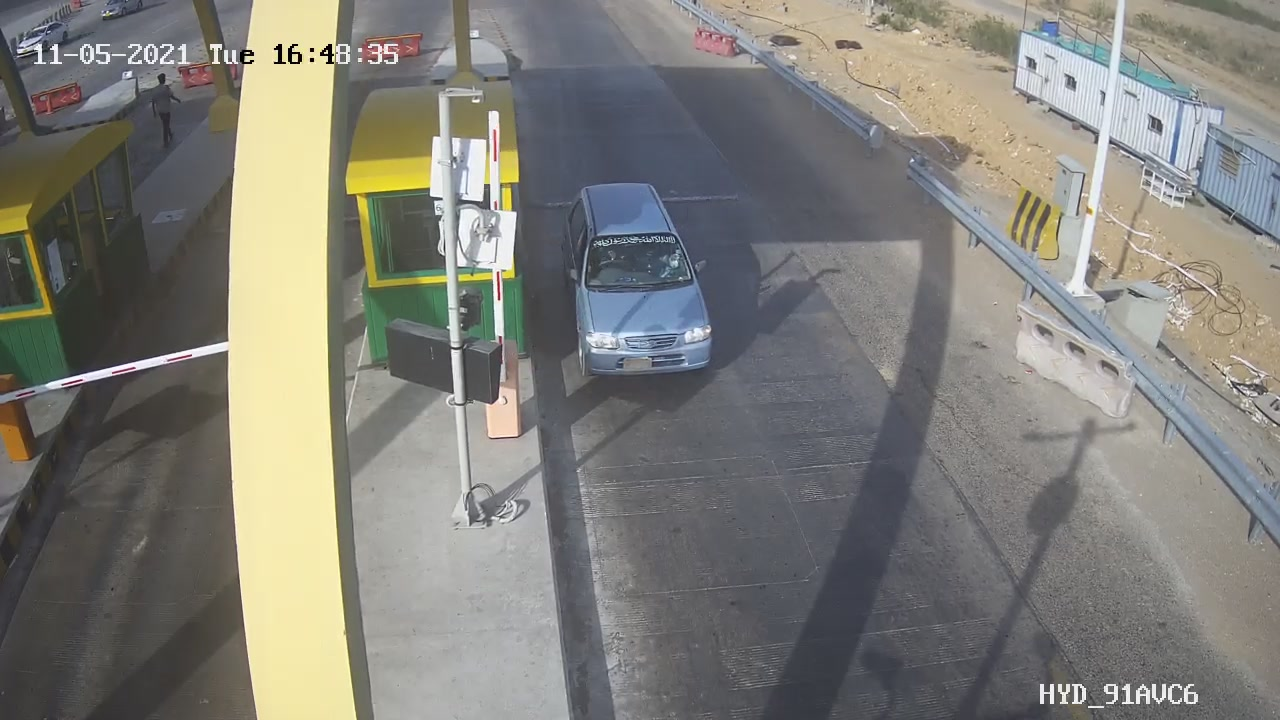F1: (544, 172, 737, 394)
